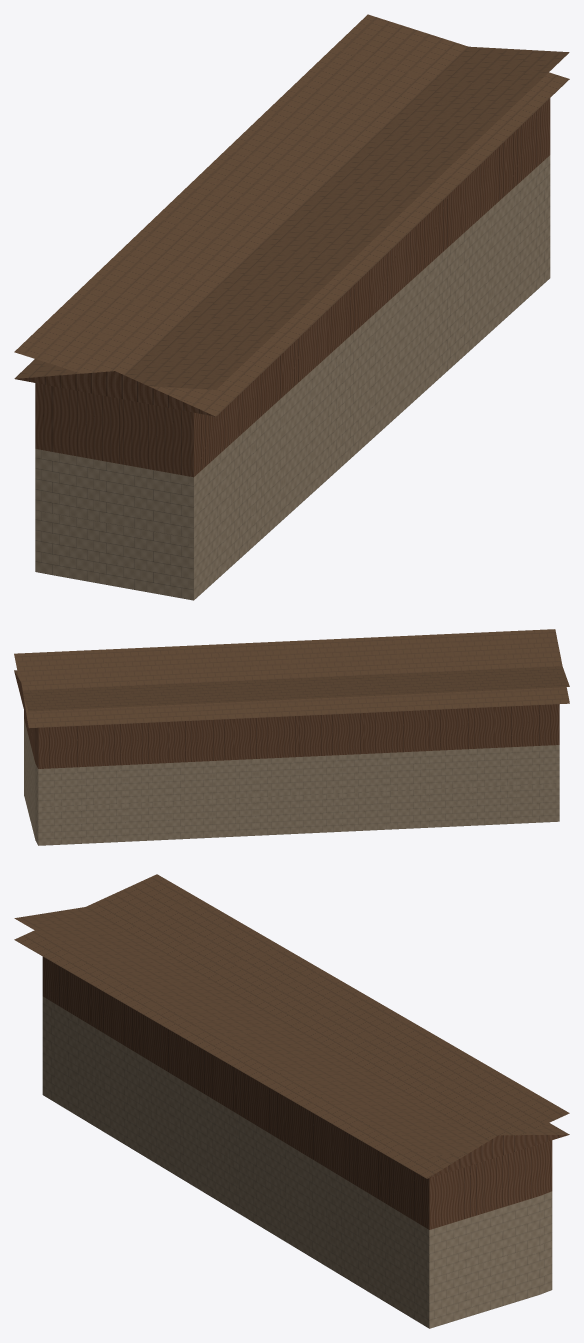
The model's file is bld_c14_22_415.gltf.
The picture shows the model from 3 angles, top to bottom: view 1: azimuth 30°, elevation 25°; view 2: azimuth 150°, elevation 25°; view 3: azimuth 270°, elevation 25°; orthographic projection. The views are drawn at different scales.
Visible parts, largest first — view 1: bld_c14_22_415; view 2: bld_c14_22_415; view 3: bld_c14_22_415.
Boxes of the visible parts, x1,y1,x2,y2 form: bld_c14_22_415: [14, 14, 569, 600]; bld_c14_22_415: [14, 629, 569, 845]; bld_c14_22_415: [14, 874, 569, 1328].
Bounding box in the file's own units: 28.26 × 8.3 × 23.44.
4 materials, 4 textured.
